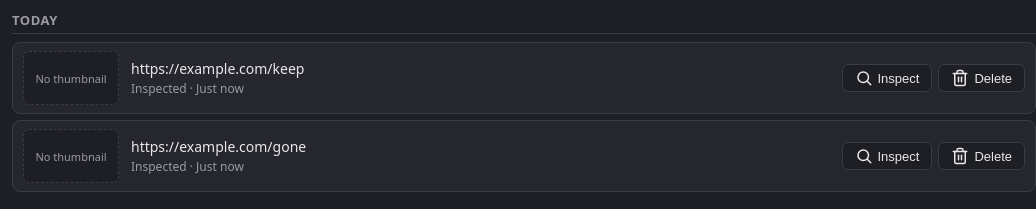
HistorySection › removes the entry and persists the deletion when Delete is clicked
Click the button with aria-label "Delete https://example.com/gone" at (982, 156), box [938,142,1025,170]
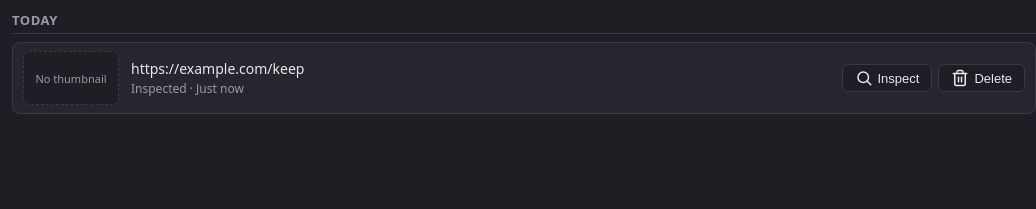
Expected: the text "https://example.com/keep" is shown, [131,59,304,78]
Result: the text "https://example.com/gone" is gone
